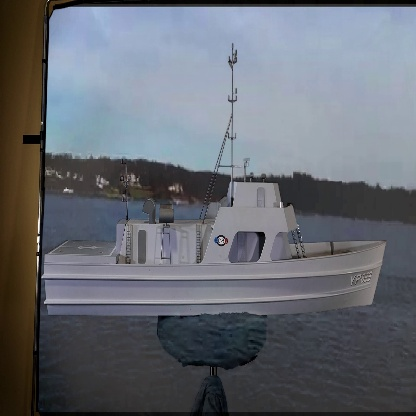YP689: (41, 41, 387, 319)
